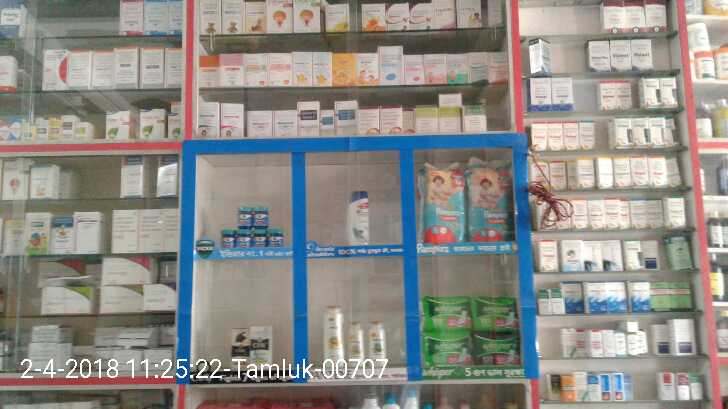vicks: (219, 205, 284, 254)
